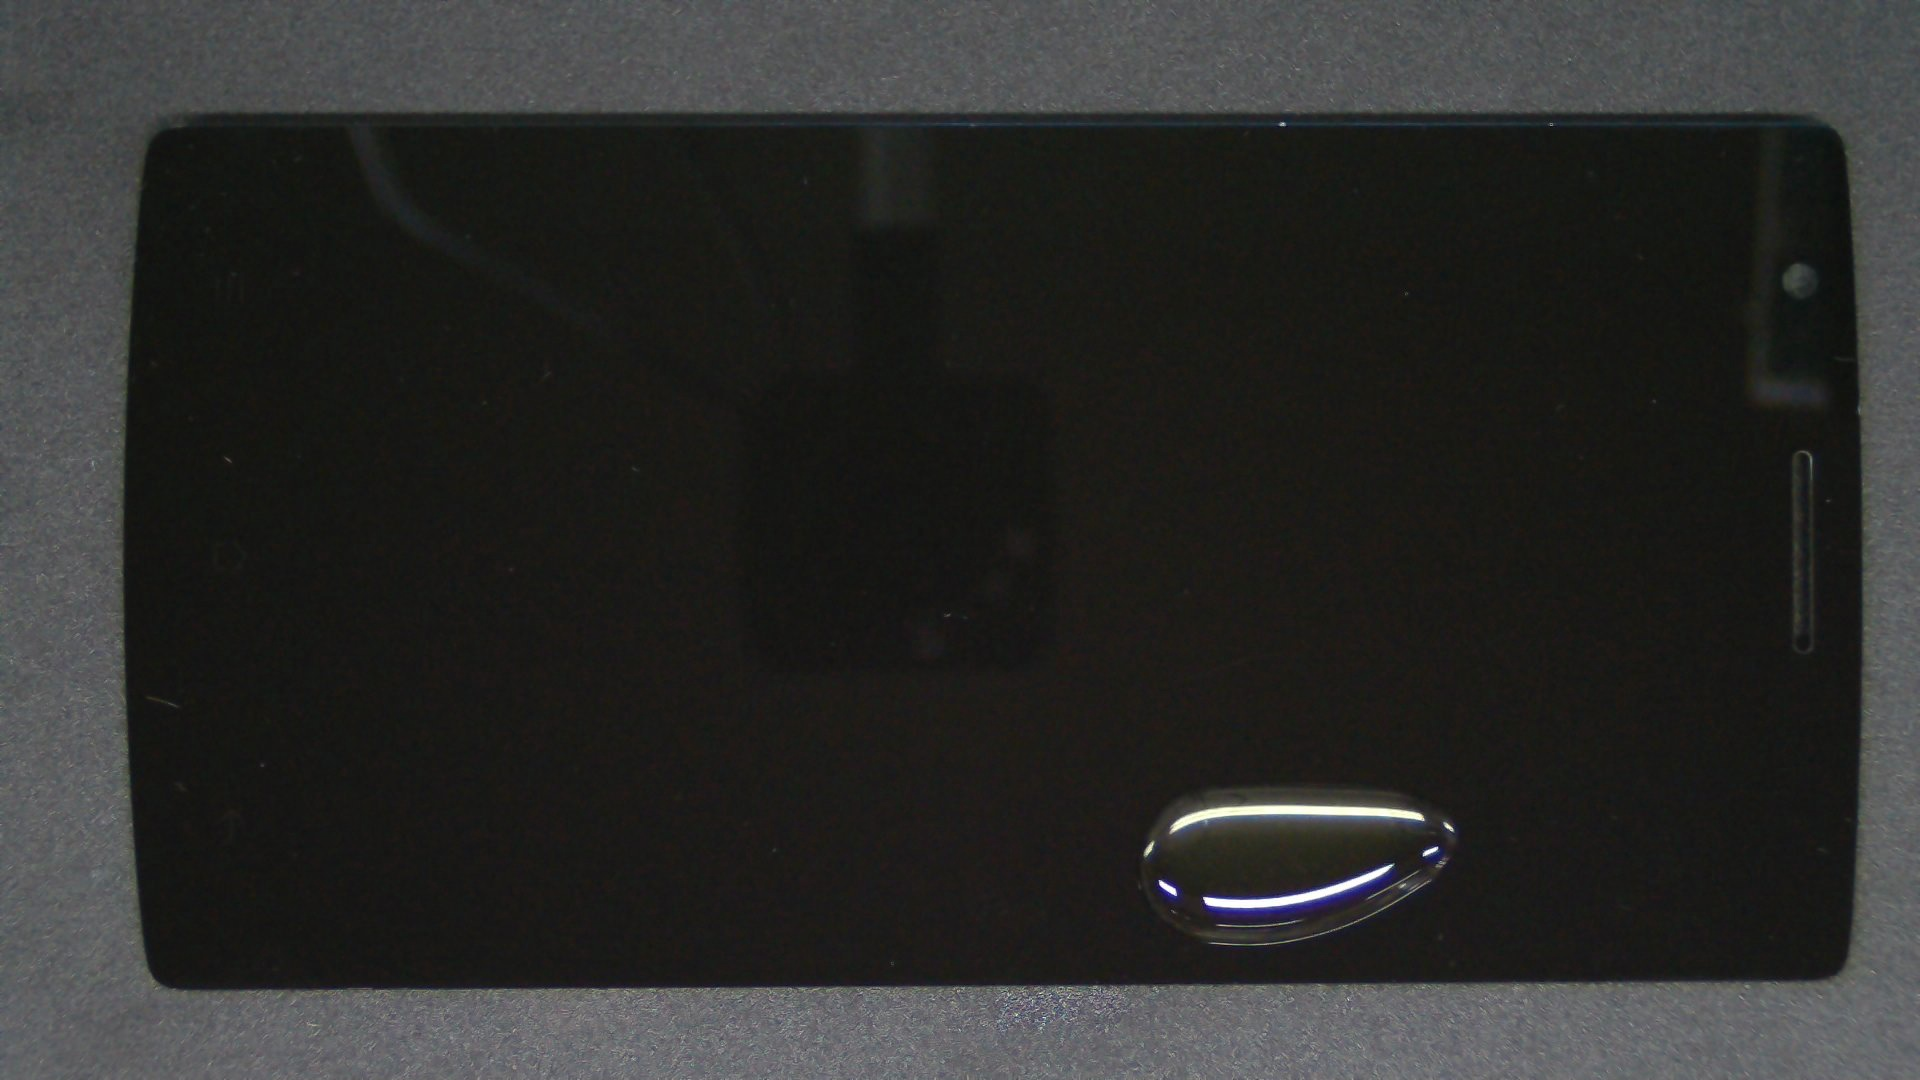oil: (621, 392, 1861, 1080)
